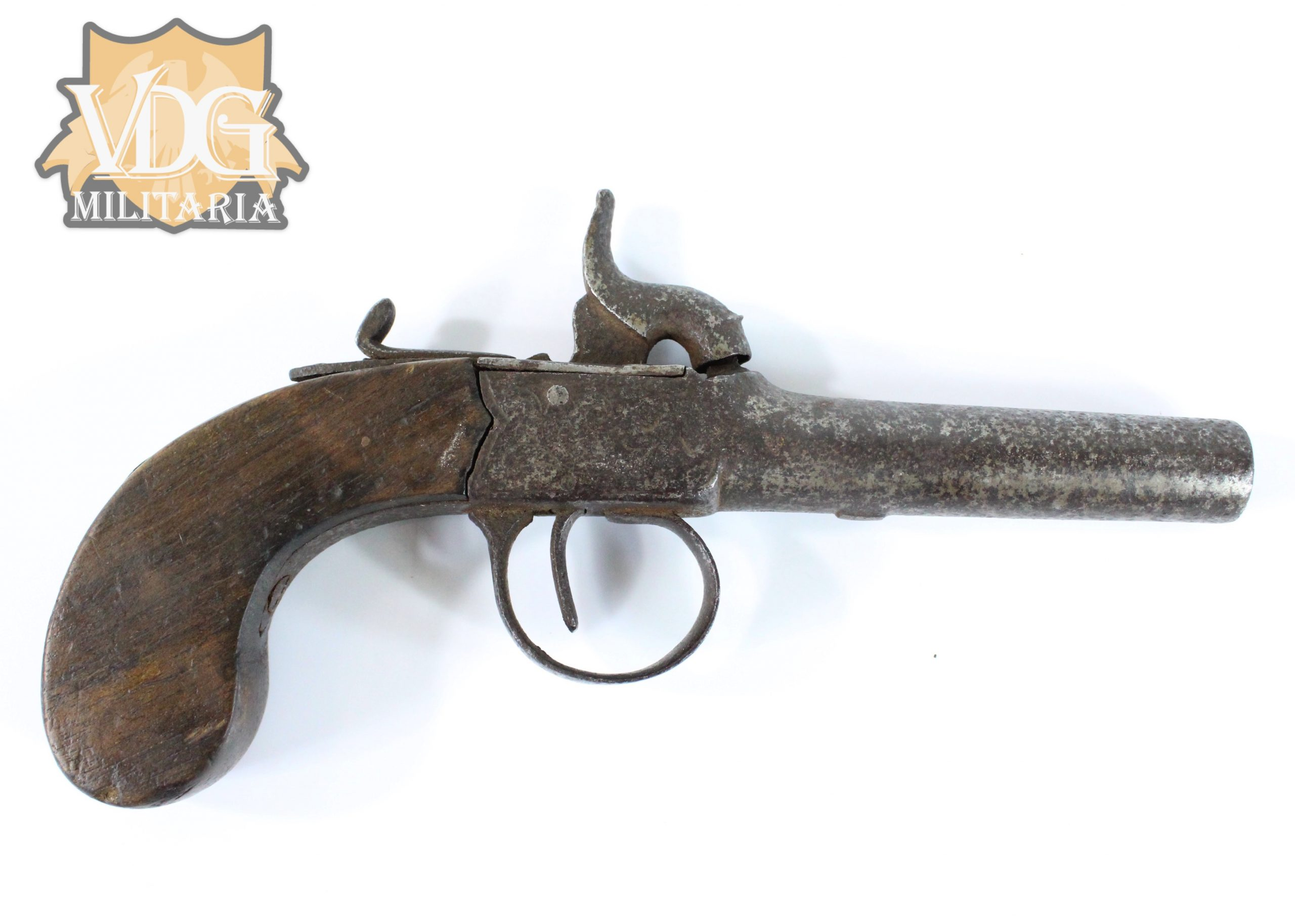GUN: (35, 188, 1261, 806)
